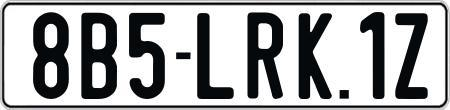1: (357, 12, 382, 103)
5: (129, 10, 170, 97)
8: (33, 12, 71, 104)
B: (79, 13, 121, 100)
K: (296, 10, 333, 97)
L: (194, 11, 232, 97)
R: (246, 11, 286, 102)
Z: (392, 13, 429, 105)
